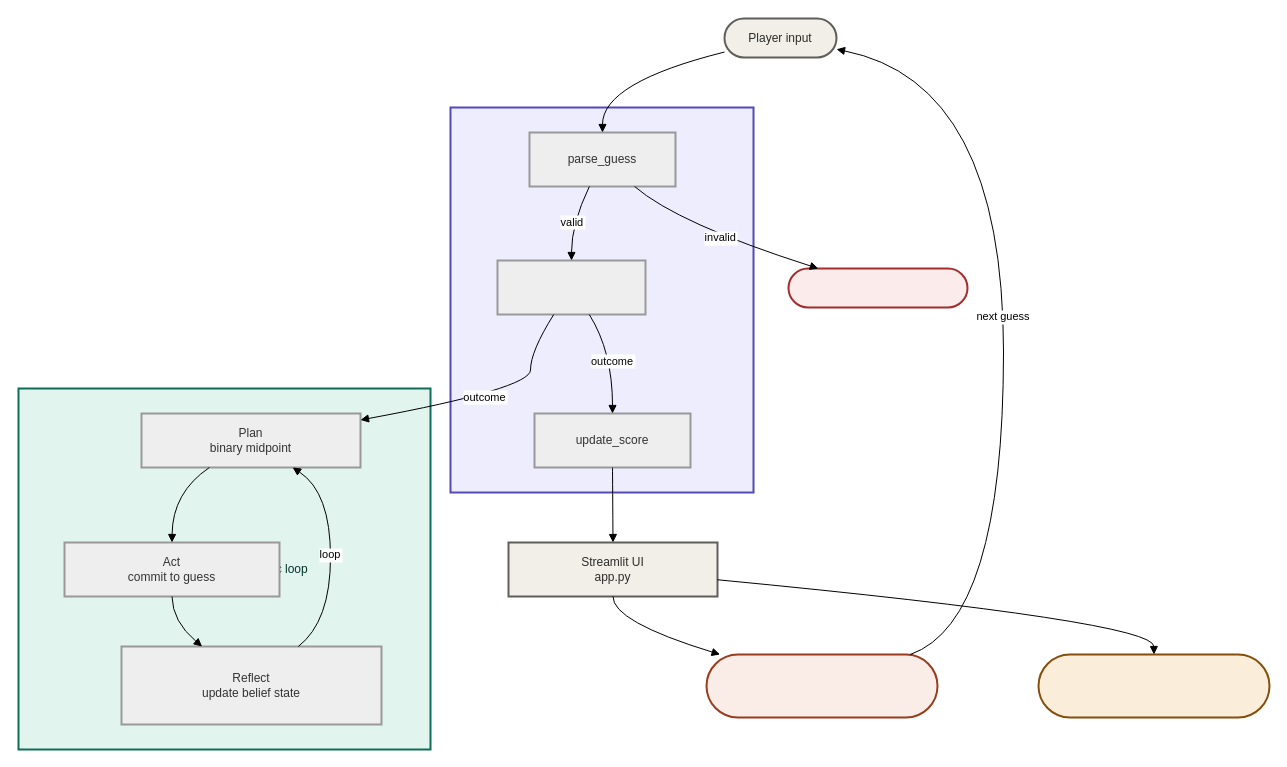
Some shapes in this 1287 by 767 pixel diagram are drawn without their labels. The centre of each missing label's shape, as x and y in pixels:
"check_guess" goes at (571,287).
"Developer debug secret, history, score" goes at (1153,685).
"Error shown to player" goes at (877,287).
"Human player reads hint, submits guess" goes at (821,685).
